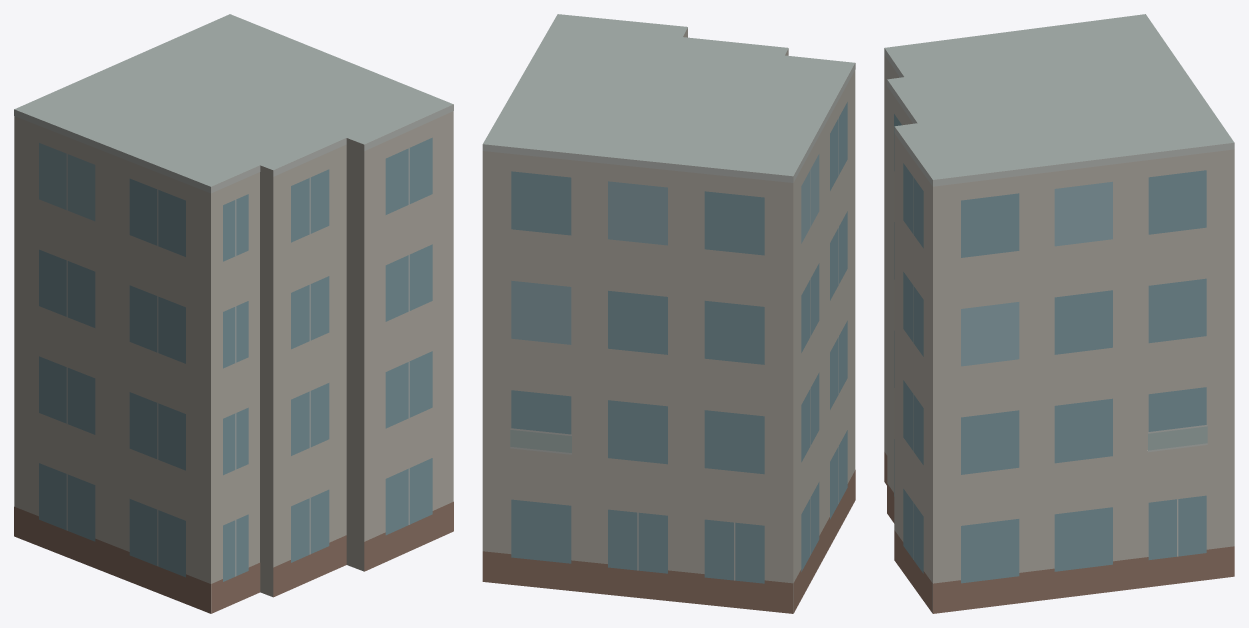
File: survey-upis-33001333.glb
3 renders of one model, left to right at view 1: azimuth 30°, elevation 25°; view 2: azimuth 150°, elevation 25°; view 3: azimuth 270°, elevation 25°, orthographic. The views are drawn at different scales.
Visible parts, largest first — view 1: survey-upis-33001333.tmp; view 2: survey-upis-33001333.tmp; view 3: survey-upis-33001333.tmp.
Part boxes in pixels (<box>): survey-upis-33001333.tmp: <box>14,14,453,613</box>; survey-upis-33001333.tmp: <box>482,14,855,613</box>; survey-upis-33001333.tmp: <box>884,14,1234,613</box>.
Bounding box in the file's own units: 12.93 × 15.75 × 11.53.
